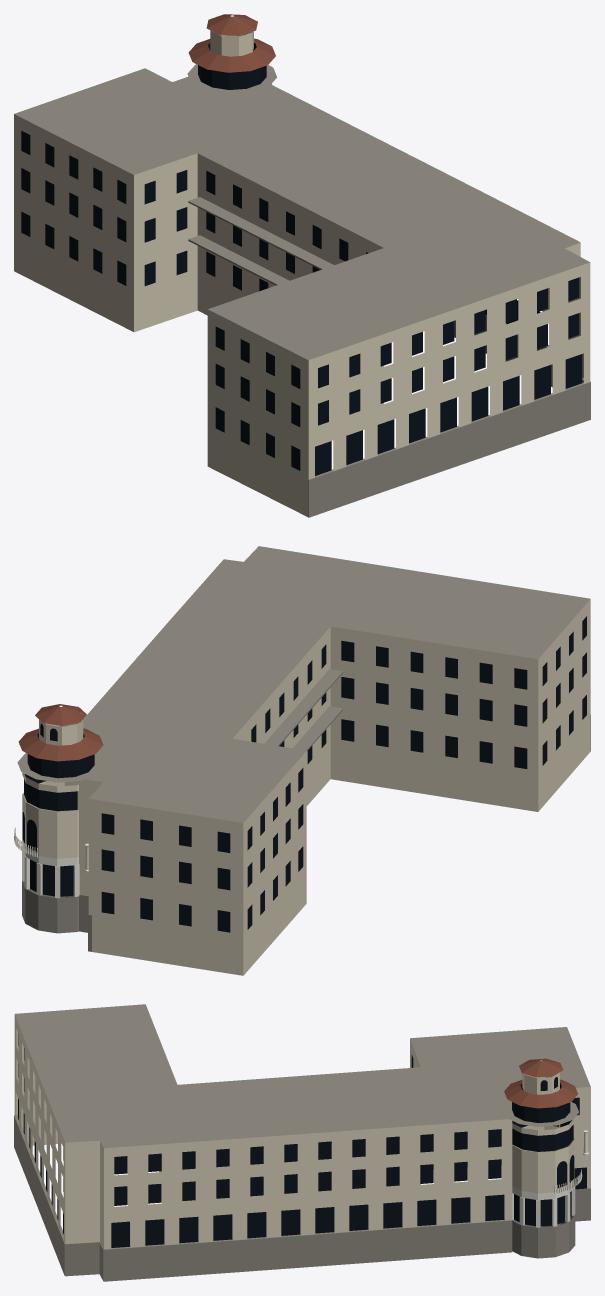
The picture shows the model from 3 angles, top to bottom: view 1: azimuth 30°, elevation 25°; view 2: azimuth 150°, elevation 25°; view 3: azimuth 270°, elevation 25°; orthographic projection. The views are drawn at different scales.
Visible parts, largest first — view 1: w92718640_stone, w92718640_wall, w92718640_glass, w92718640_roof; view 2: w92718640_wall, w92718640_stone, w92718640_glass, w92718640_roof, w92718640_wall2; view 3: w92718640_stone, w92718640_wall, w92718640_glass, w92718640_roof, w92718640_wall2.
Boxes of the visible parts, x1,y1,x2,y2 form: w92718640_stone: [14, 64, 590, 517]; w92718640_wall: [14, 30, 590, 517]; w92718640_glass: [21, 42, 582, 475]; w92718640_roof: [188, 14, 275, 72]; w92718640_wall: [22, 599, 590, 975]; w92718640_stone: [17, 546, 590, 951]; w92718640_glass: [22, 616, 586, 932]; w92718640_roof: [18, 704, 103, 761]; w92718640_wall2: [22, 841, 79, 898]; w92718640_stone: [14, 1004, 590, 1281]; w92718640_wall: [14, 1014, 590, 1249]; w92718640_glass: [18, 1033, 586, 1247]; w92718640_roof: [504, 1058, 577, 1108]; w92718640_wall2: [512, 1182, 575, 1227].
Size of the model in its own units: 34.36 by 20.4 by 58.07.
